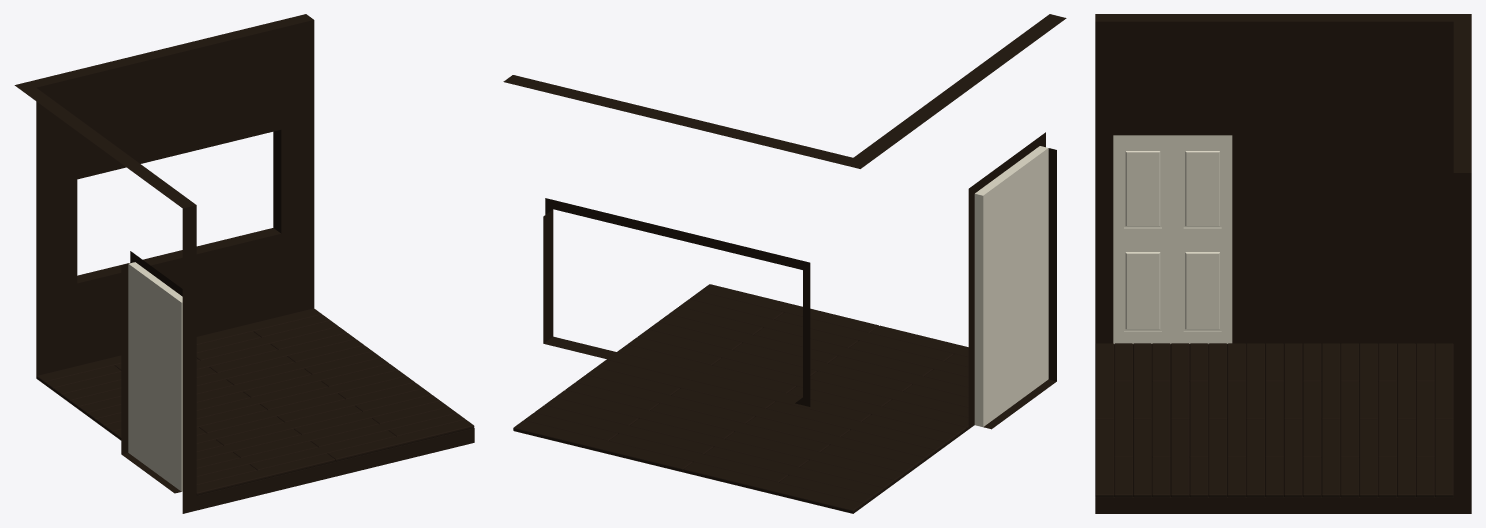
Rendered from Room.glb.
3 renders of one model, left to right at view 1: azimuth 30°, elevation 25°; view 2: azimuth 150°, elevation 25°; view 3: azimuth 270°, elevation 25°, orthographic. The views are drawn at different scales.
Visible parts, largest first — view 1: Cube, Plane.028, Cube.001, Cube.003; view 2: Plane.028, Cube.001, Cube, Cube.003, Cube.002; view 3: Cube, Plane.028, Cube.001, Cube.002.
Part boxes in pixels (x1,y1,x2,y2): Cube: (14,14,474,513); Plane.028: (36,308,474,495); Cube.001: (128,262,182,491); Cube.003: (71,120,287,291); Plane.028: (513,284,968,513); Cube.001: (974,146,1048,426); Cube: (503,14,1066,513); Cube.003: (545,198,810,406); Cube.002: (968,132,1045,428); Cube: (1095,14,1471,513); Plane.028: (1095,343,1453,497); Cube.001: (1113,135,1232,343); Cube.002: (1102,126,1243,343).
Bounding box in the file's own units: 2.1 × 2.1 × 2.1.
